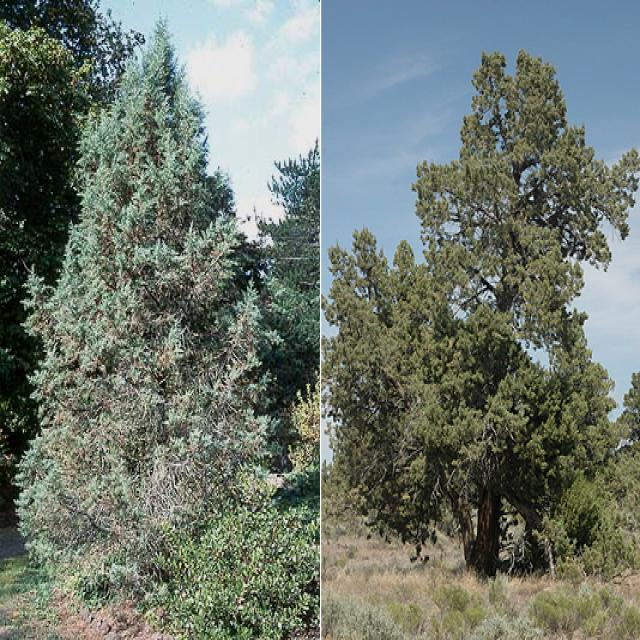Juniperus occidentalis: (329, 51, 637, 559), (19, 13, 270, 554)
